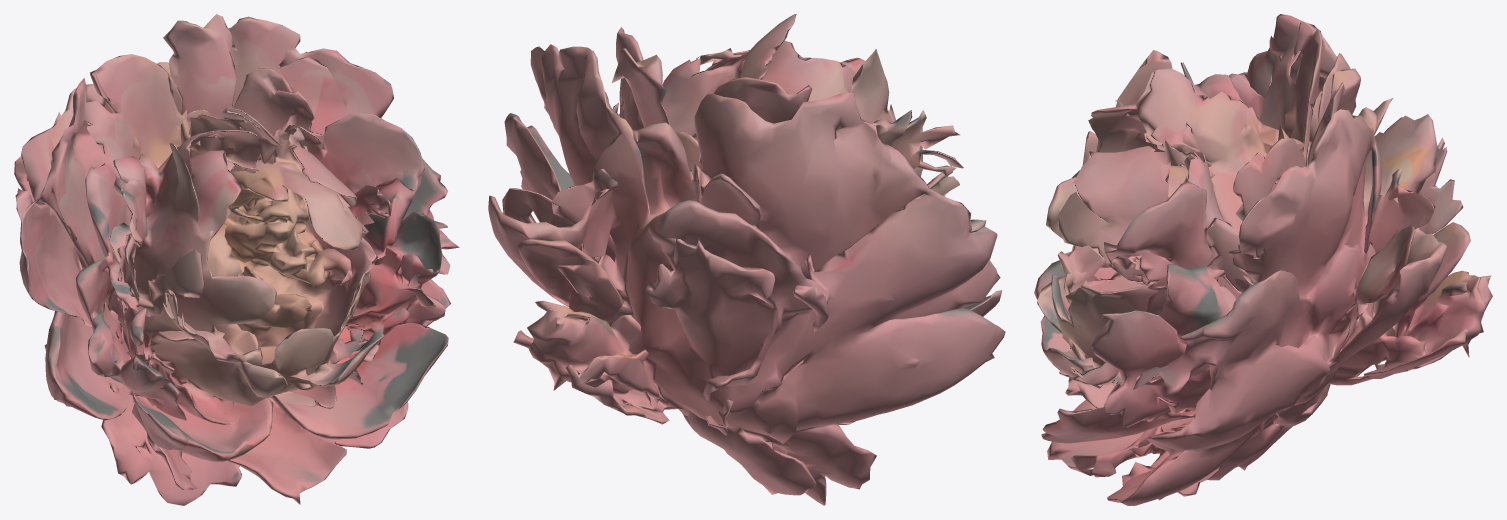
File: peony-v1.glb
3 renders of one model, left to right at view 1: azimuth 30°, elevation 25°; view 2: azimuth 150°, elevation 25°; view 3: azimuth 270°, elevation 25°, orthographic. The views are drawn at different scales.
Parts seen in each view (by area): view 1: tripo_node_54614475-aff8-4fb8-b928-a3c9c1f1d69a; view 2: tripo_node_54614475-aff8-4fb8-b928-a3c9c1f1d69a; view 3: tripo_node_54614475-aff8-4fb8-b928-a3c9c1f1d69a.
Part boxes in pixels (<box>): tripo_node_54614475-aff8-4fb8-b928-a3c9c1f1d69a: <box>14,14,459,505</box>; tripo_node_54614475-aff8-4fb8-b928-a3c9c1f1d69a: <box>488,14,1005,505</box>; tripo_node_54614475-aff8-4fb8-b928-a3c9c1f1d69a: <box>1034,14,1492,505</box>.
Size of the model in its own units: 1 by 0.9542 by 0.887.
1 material, 1 textured.
